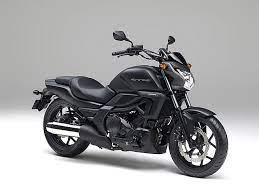Motorbike: (33, 31, 227, 177)
